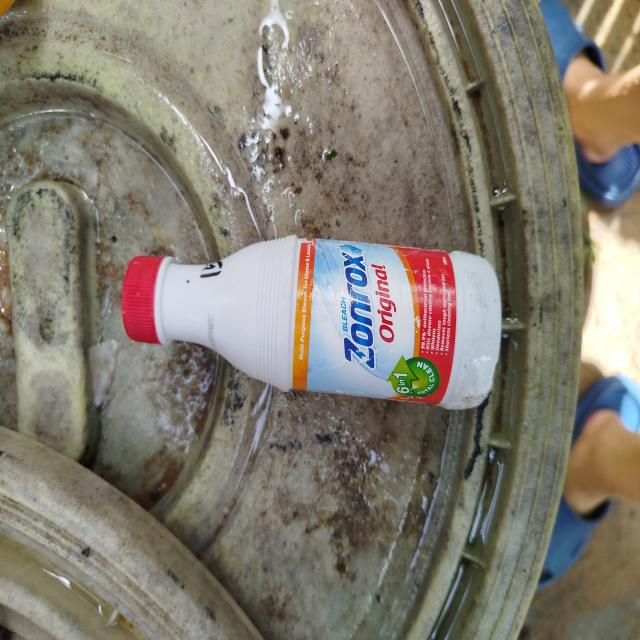plastic: (107, 233, 508, 416)
